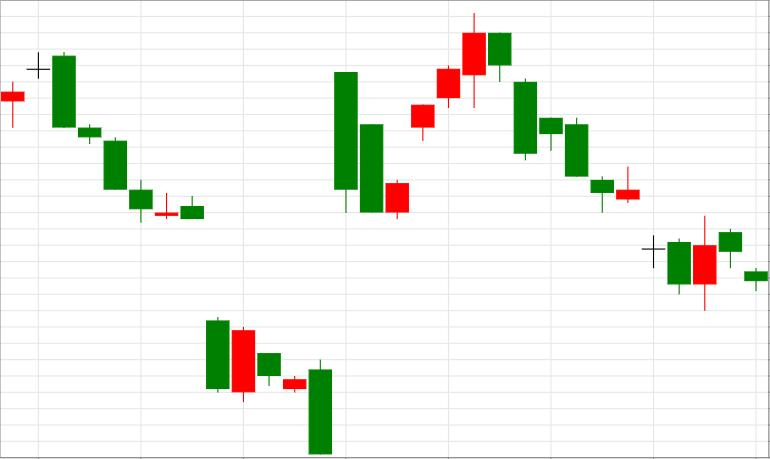bullish_engulfing_rise: (488, 32, 716, 311)
